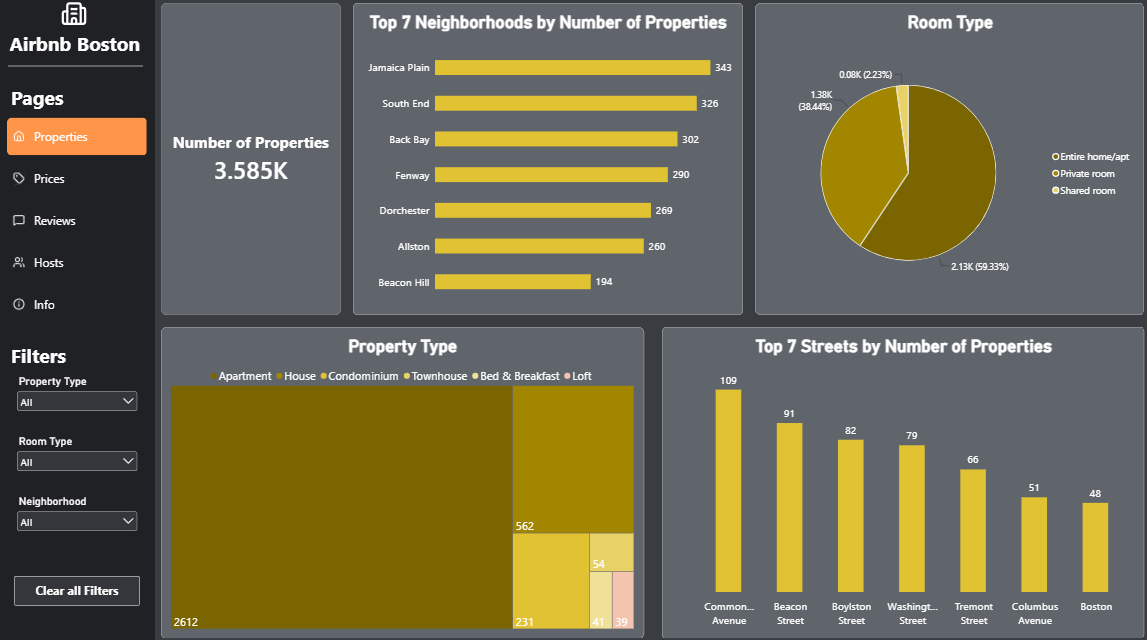

Layout of this report page (visuals, bound fields, positions):
{"tool":"powerbi","page":{"name":"Properties","canvas":[1920,1080],"ordinal":0},"visuals":[{"type":"shape","box":[0,0,260,1080],"z":0,"group":"g1"},{"type":"cardVisual","title":"عدد العقارات","fields":{"Data":["Count(listings.id)"]},"box":[270,10,300,520],"z":0},{"type":"columnChart","title":"Top 7 Streets by Number of Properties","fields":{"Category":["listings.street"],"Y":["CountNonNull(listings.id)"]},"box":[1105,550,805,520],"z":1000},{"type":"barChart","title":"Top 7 Neighborhoods by Number of Properties","fields":{"Category":["listings.neighbourhood_cleansed"],"Y":["CountNonNull(listings.id)"]},"box":[590,10,650,520],"z":2000},{"type":"slicer","fields":{"Values":["listings.property_type"]},"box":[25,630,210,70],"z":2000,"group":"g1"},{"type":"pieChart","title":"Room Type","fields":{"Category":["listings.room_type"],"Y":["CountNonNull(listings.room_type)"]},"box":[1260,10,650,520],"z":3000},{"type":"slicer","fields":{"Values":["listings.room_type"]},"box":[25,730,210,70],"z":3000,"group":"g1"},{"type":"group","id":"g1","title":"Group 1","box":[0,0,260,1080],"z":4000},{"type":"slicer","fields":{"Values":["listings.neighbourhood_cleansed"]},"box":[25,830,210,70],"z":4000,"group":"g1"},{"type":"treemap","title":"Property Type","fields":{"Group":["listings.property_type"],"Values":["CountNonNull(listings.city)"]},"box":[270,550,805,520],"z":5000},{"type":"textbox","box":[20,145,100,50],"z":7000,"group":"g1"},{"type":"shape","box":[15,95,225,40],"z":9000,"group":"g1"},{"type":"textbox","box":[20,575,110,50],"z":10000,"group":"g1"},{"type":"textbox","box":[17,55,230.6,45.3],"z":11000,"group":"g1"},{"type":"image","box":[50,5,150,45],"z":12000,"group":"g1"},{"type":"actionButton","box":[26,966,210,50],"z":13000,"group":"g1"},{"type":"actionButton","title":"Overview Button","box":[13,200,235,65],"z":13500,"group":"g1"},{"type":"actionButton","box":[13,270,235,65],"z":14000,"group":"g1"},{"type":"actionButton","box":[13,480,235,65],"z":14250,"group":"g1"},{"type":"actionButton","box":[13,340,235,65],"z":14500,"group":"g1"},{"type":"actionButton","box":[13,410,235,65],"z":15000,"group":"g1"}]}

Visuals, with their boxes on the page's 1920x1080 design canvas (x1, y1, x2, y2). These are canvas units, not pixel positions in the 1147x640 screenshot, which may show the page scaled, cropped or inside an application window:
shape: BBox(0, 0, 260, 1080)
"عدد العقارات" cardVisual: BBox(270, 10, 570, 530)
"Top 7 Streets by Number of Properties" columnChart: BBox(1105, 550, 1910, 1070)
"Top 7 Neighborhoods by Number of Properties" barChart: BBox(590, 10, 1240, 530)
slicer - listings.property_type: BBox(25, 630, 235, 700)
"Room Type" pieChart: BBox(1260, 10, 1910, 530)
slicer - listings.room_type: BBox(25, 730, 235, 800)
"Group 1" group: BBox(0, 0, 260, 1080)
slicer - listings.neighbourhood_cleansed: BBox(25, 830, 235, 900)
"Property Type" treemap: BBox(270, 550, 1075, 1070)
textbox: BBox(20, 145, 120, 195)
shape: BBox(15, 95, 240, 135)
textbox: BBox(20, 575, 130, 625)
textbox: BBox(17, 55, 248, 100)
image: BBox(50, 5, 200, 50)
actionButton: BBox(26, 966, 236, 1016)
"Overview Button" actionButton: BBox(13, 200, 248, 265)
actionButton: BBox(13, 270, 248, 335)
actionButton: BBox(13, 480, 248, 545)
actionButton: BBox(13, 340, 248, 405)
actionButton: BBox(13, 410, 248, 475)
